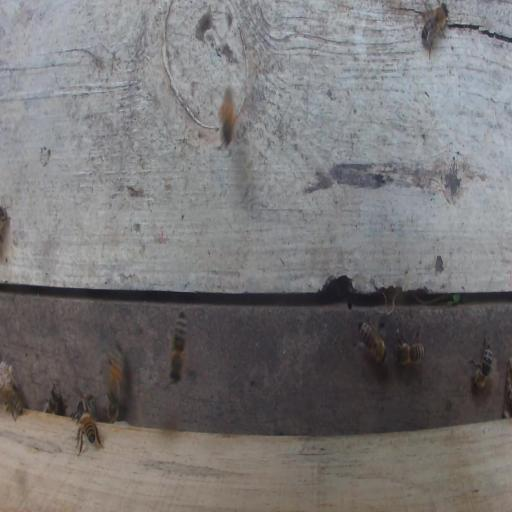Insects: (421, 4, 449, 58), (358, 319, 388, 366), (169, 310, 188, 384), (468, 334, 492, 390), (217, 86, 238, 149), (395, 327, 425, 367), (76, 413, 103, 455), (1, 382, 24, 422), (44, 386, 65, 415), (74, 393, 96, 419), (106, 391, 120, 425), (0, 198, 10, 242)
